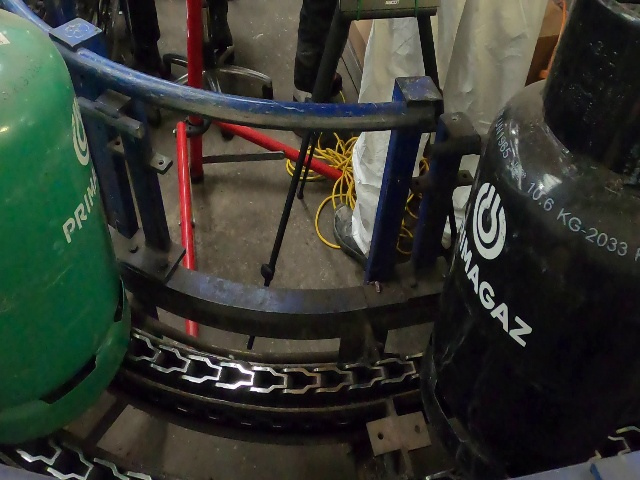gas_bottle: (3, 1, 639, 480)
